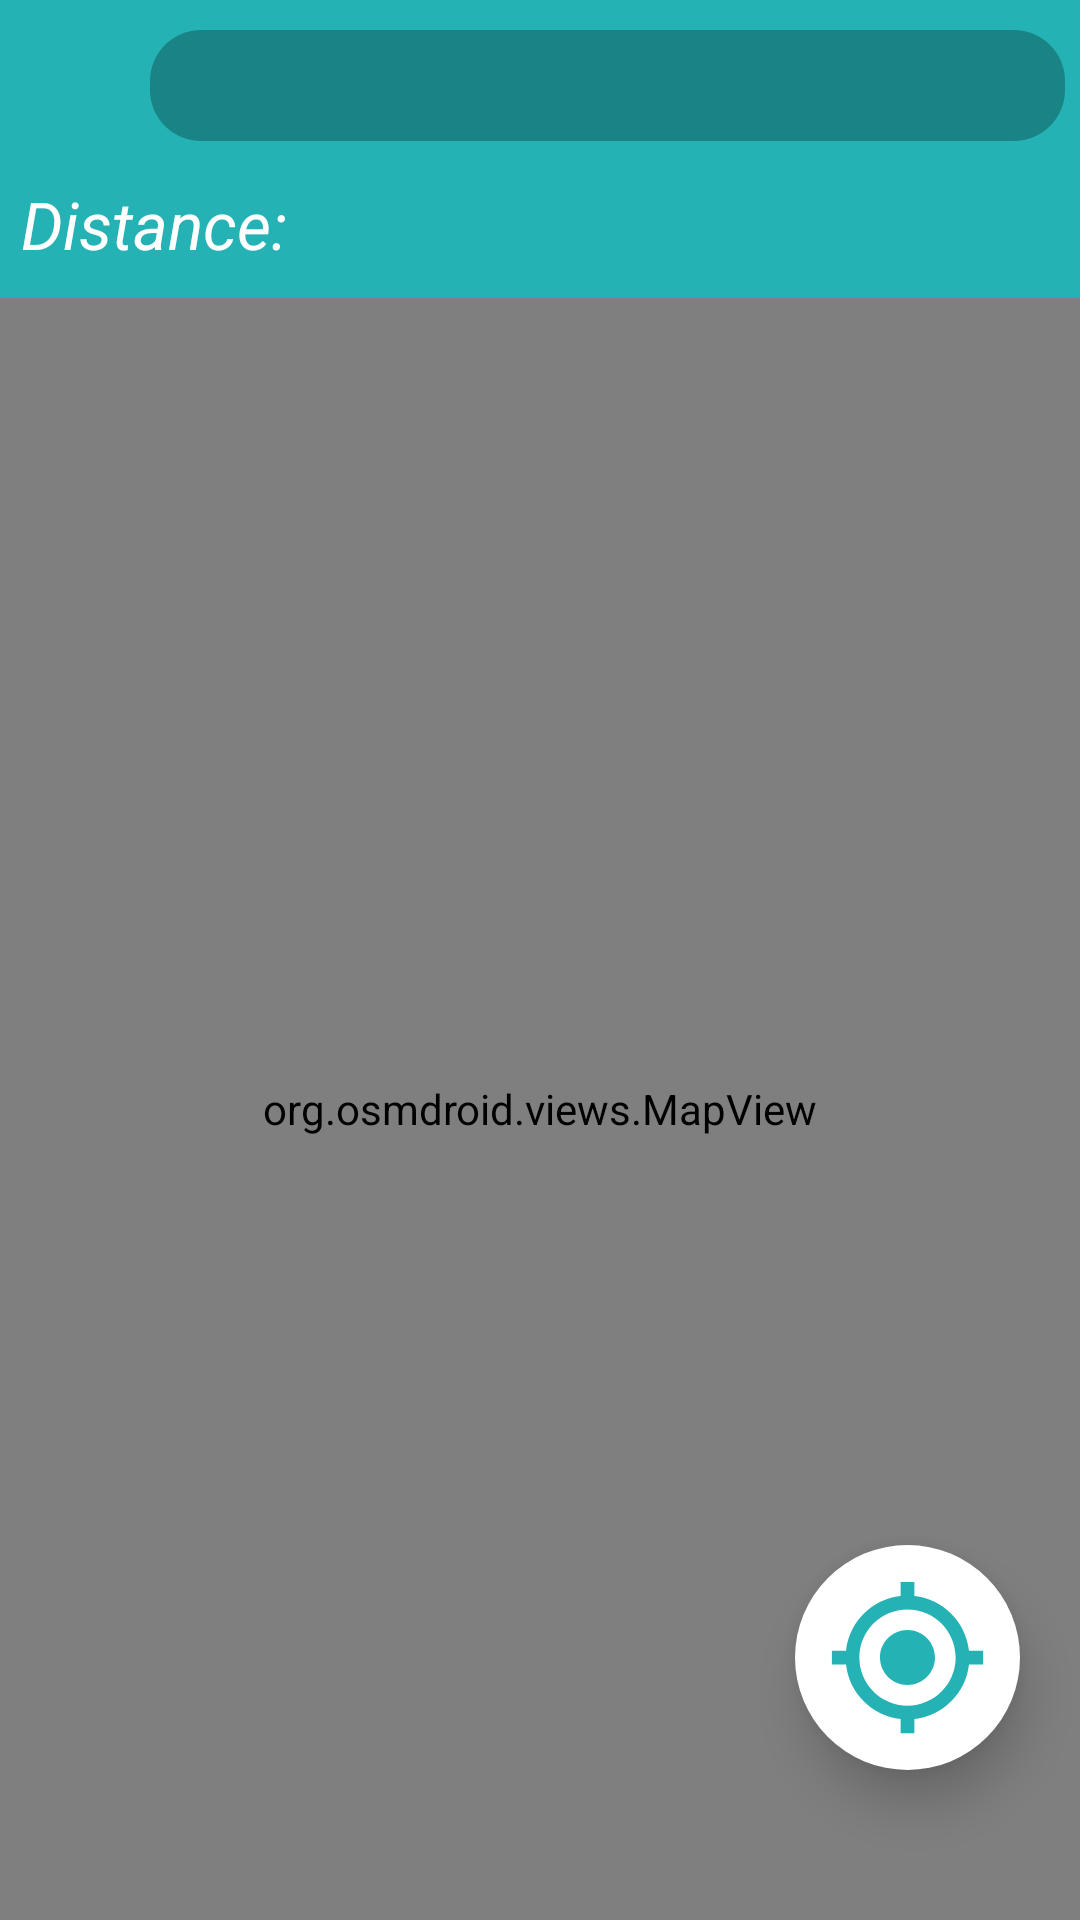

Screen size 1080w x 1920h. Icon name, then its center in pixels as (x,y):
location: (907,1657)
